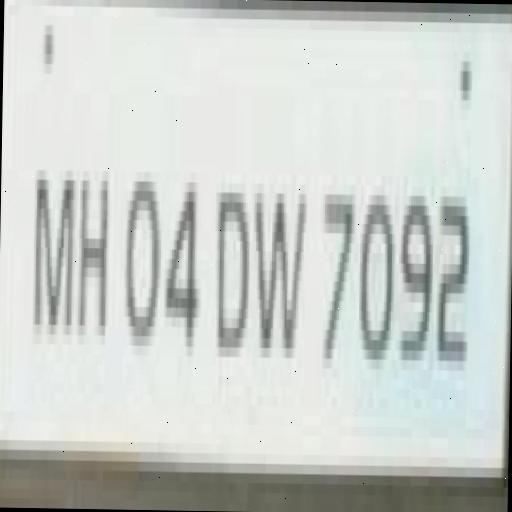number plate: (0, 0, 491, 506)
